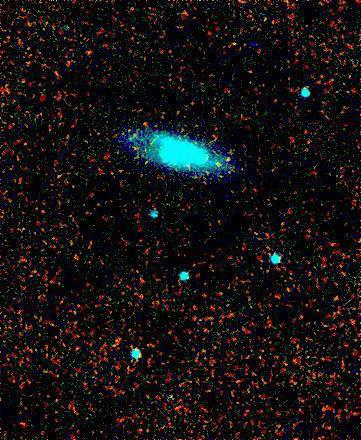star: (212, 145, 242, 175)
